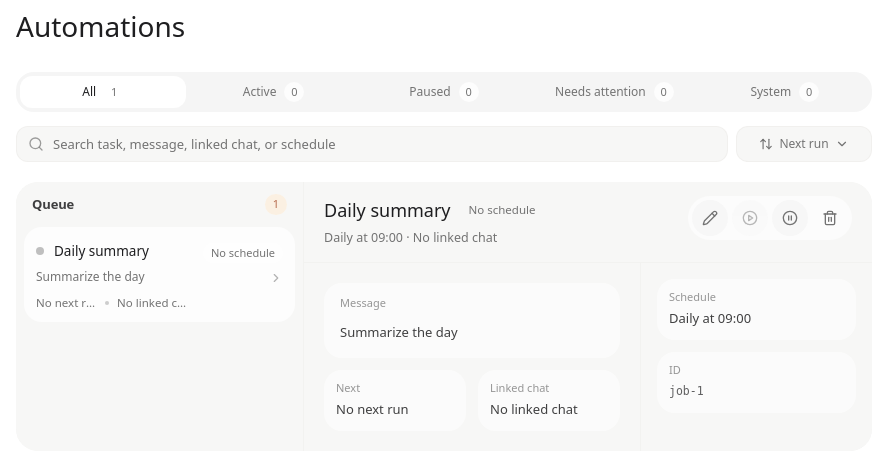
Settings system domains › offers a way out of an empty automations filter
Expected: the heading "Daily summary" is shown, x1=324 y1=196 x2=450 y2=224
Click the button "Paused 0" at (444, 92), box x1=361 y1=76 x2=527 y2=108
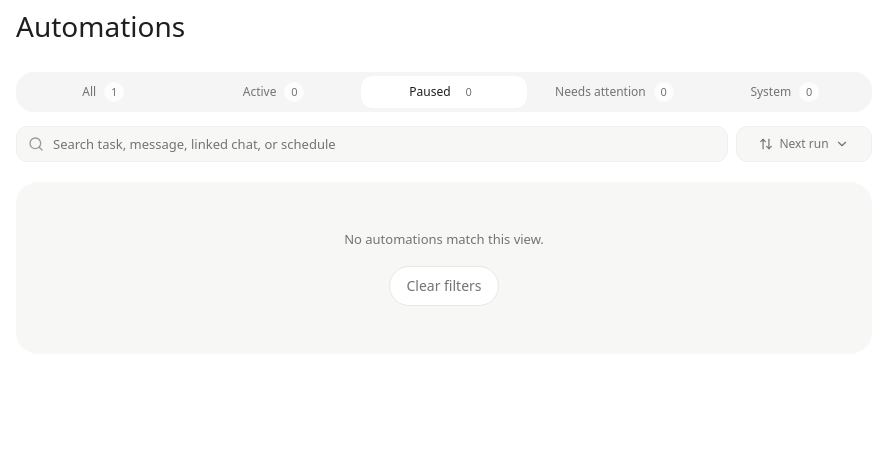
Expected: the text "No automations match this view." is shown, x1=344 y1=230 x2=544 y2=248
Click the button "Clear filters" at (444, 286), box x1=389 y1=266 x2=498 y2=306
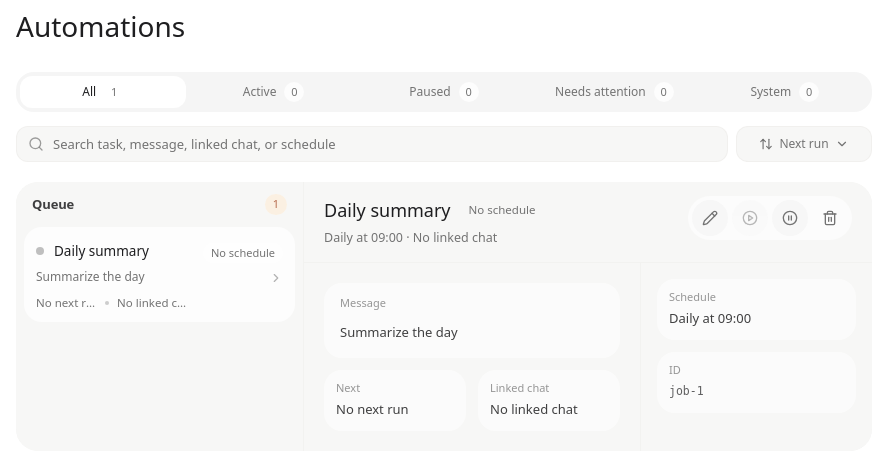
Expected: the heading "Daily summary" is shown, x1=324 y1=196 x2=450 y2=224
